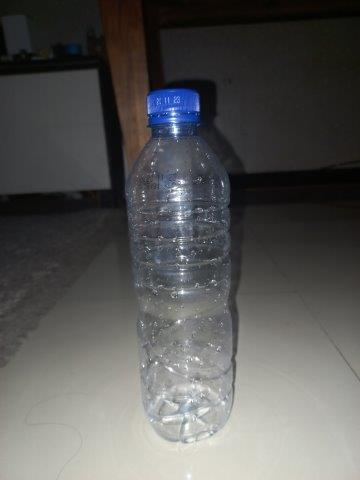botolplastik: (127, 90, 233, 441)
